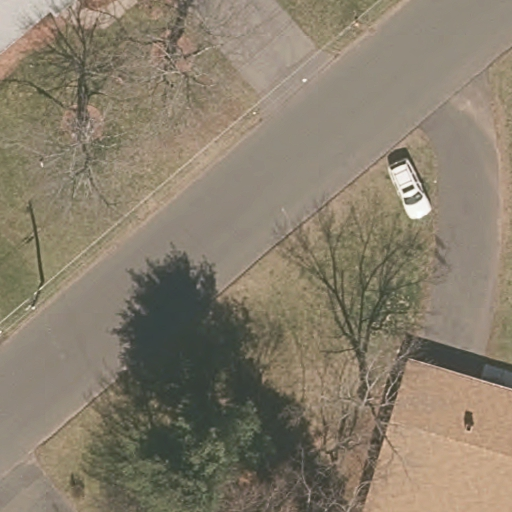DT: (23, 292, 41, 314)
